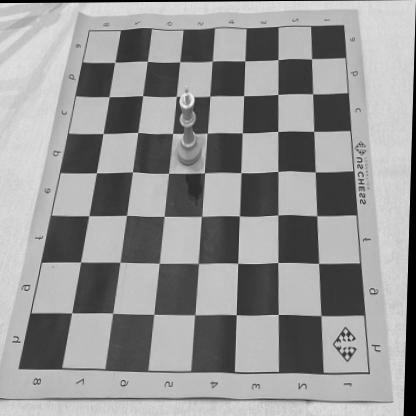white-king: (176, 85, 204, 166)
